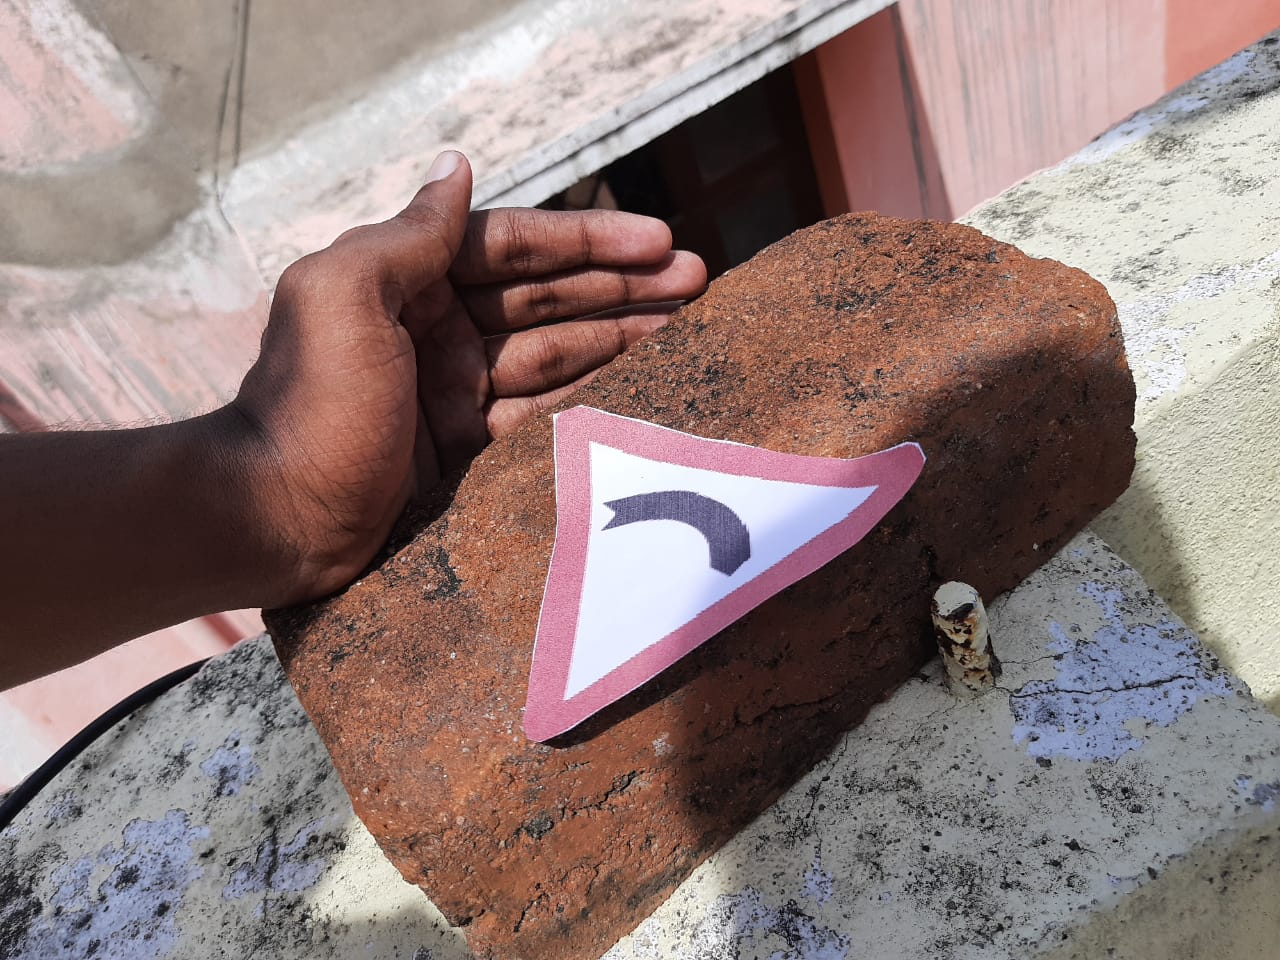RIGHT CURVE: (536, 388, 944, 745)
